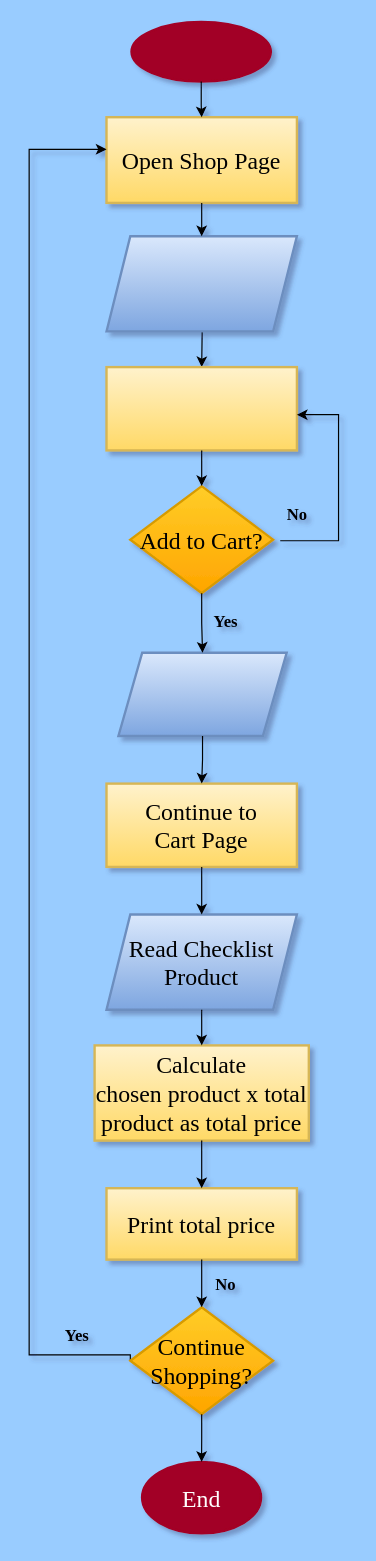
Image size: 376x1561. Some labels were removed from this diagram. Each missing label, with the centre of its shape:
Choose Product: (201,408)
Read Browse Product: (201,283)
Read Input Total Product: (202,694)
Start: (200,51)
